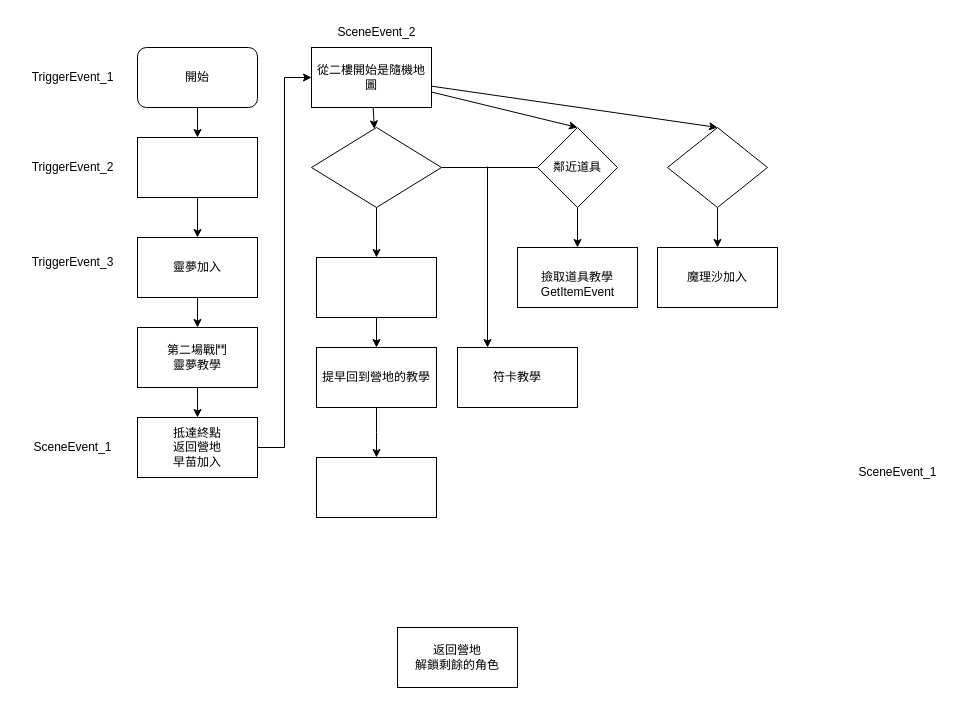
Image size: 964x705. Some labels were removed from this diagram. The shapes that lost their labels are listed below. From the top down, each one's centre as x and y in pixels, then its label:
At (x=197, y=167): "第一場戰鬥 技能和支援教學".
At (x=376, y=167): "第三場戰鬥 (二樓第一場戰鬥)".
At (x=717, y=167): "玩家打通二樓".
At (x=376, y=287): "早苗教學".
At (x=376, y=487): "烹飪教學".
